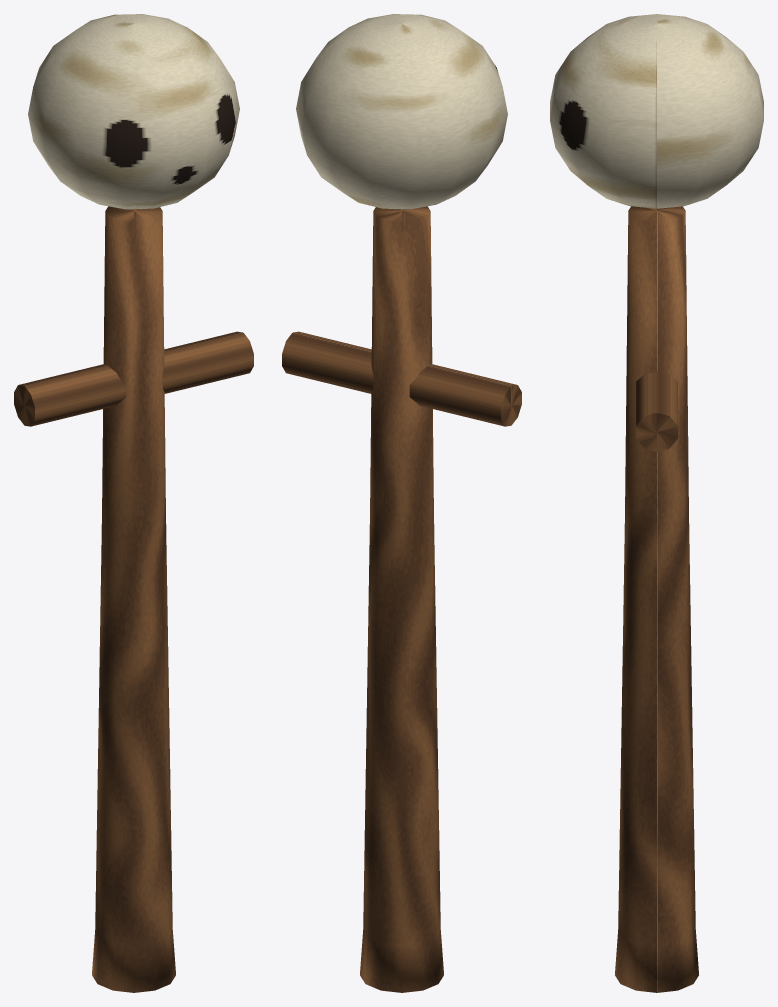
The model's file is totem_caveira.glb.
The picture shows the model from 3 angles, left to right: view 1: azimuth 30°, elevation 25°; view 2: azimuth 150°, elevation 25°; view 3: azimuth 270°, elevation 25°; orthographic projection.
Parts seen in each view (by area): view 1: totem_caveira; view 2: totem_caveira; view 3: totem_caveira.
Boxes of the visible parts, x1,y1,x2,y2 form: totem_caveira: [14, 14, 253, 992]; totem_caveira: [282, 14, 521, 992]; totem_caveira: [550, 14, 763, 992].
Size of the model in its own units: 0.3 by 1.25 by 0.2535.
Materials: 1 (1 with a texture image).
